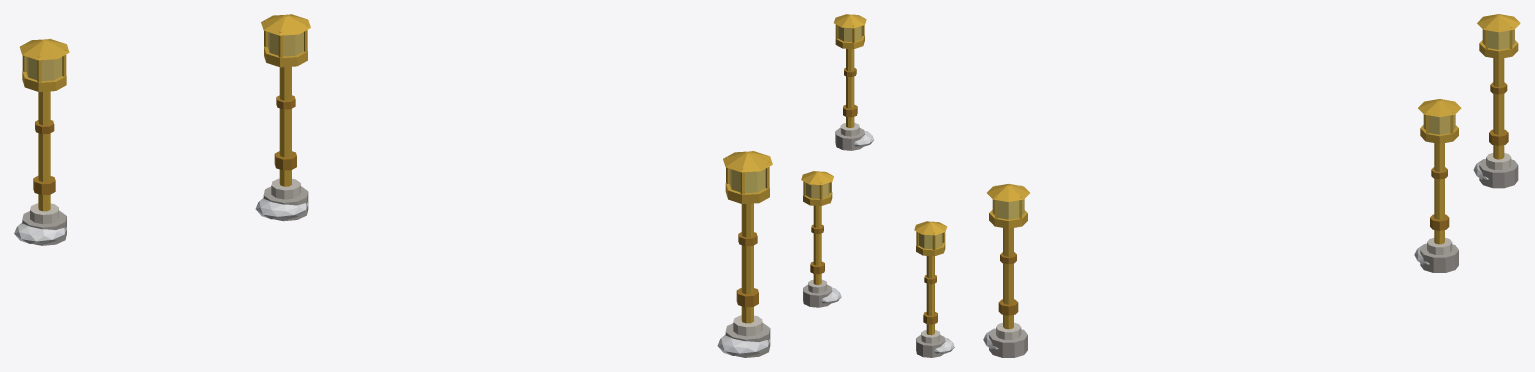
Rendered from Decor_CloudTemple_GoldenLamps.fbx.
3 renders of one model, left to right at view 1: azimuth 30°, elevation 25°; view 2: azimuth 150°, elevation 25°; view 3: azimuth 270°, elevation 25°, orthographic. The views are drawn at different scales.
Parts seen in each view (by area): view 1: GoldenLamps_Body; view 2: GoldenLamps_Body; view 3: GoldenLamps_Body.
Part boxes in pixels (bbox=[...]): GoldenLamps_Body: bbox=[14, 14, 772, 357]; GoldenLamps_Body: bbox=[801, 14, 954, 357]; GoldenLamps_Body: bbox=[983, 14, 1520, 357].
Size of the model in its own units: 26.6 by 10.7 by 31.6.
